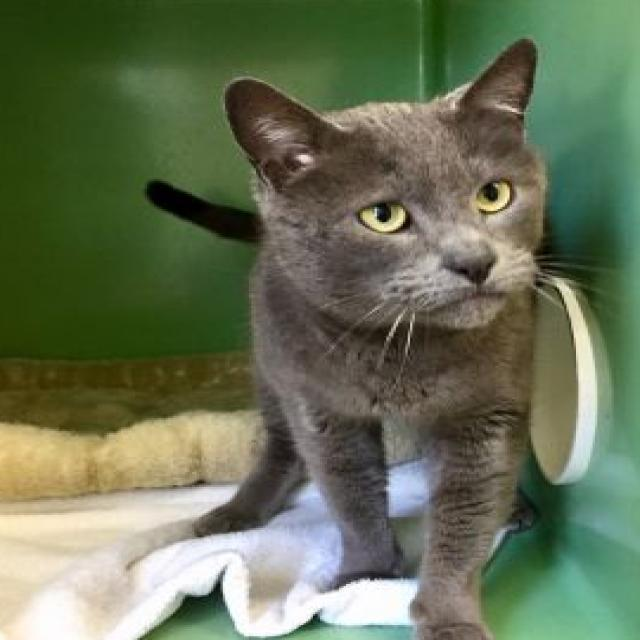Russian Blue: (142, 33, 554, 640)
